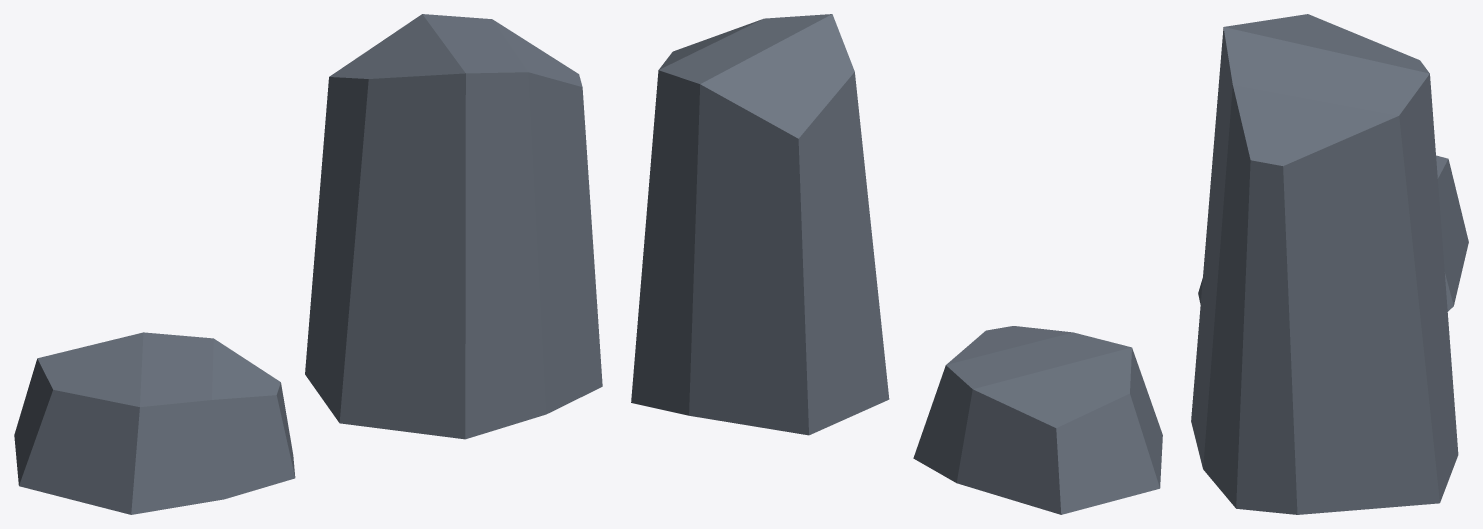
Rendered from Rock_2.glb.
3 views of the same model, side by side, from view 1: azimuth 30°, elevation 25°; view 2: azimuth 150°, elevation 25°; view 3: azimuth 270°, elevation 25° (orthographic). The views are drawn at different scales.
Parts seen in each view (by area): view 1: Rock_2; view 2: Rock_2; view 3: Rock_2.
Boxes of the visible parts, box(x1,y1,x2,y2) form: Rock_2: box(14, 14, 602, 514); Rock_2: box(631, 14, 1162, 514); Rock_2: box(1191, 14, 1468, 514).
Bounding box in the file's own units: 0.2387 × 0.1507 × 0.0919.
